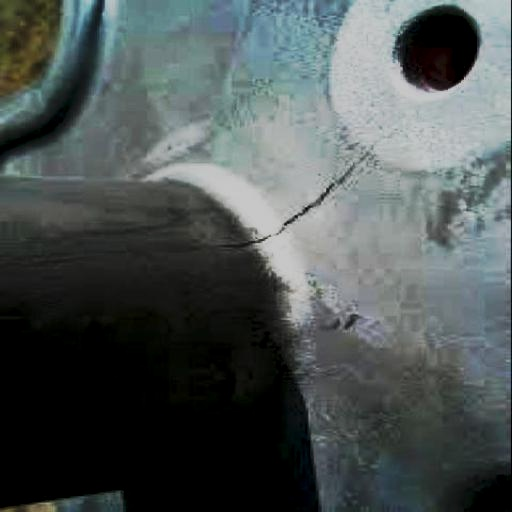crack: (193, 130, 383, 268)
